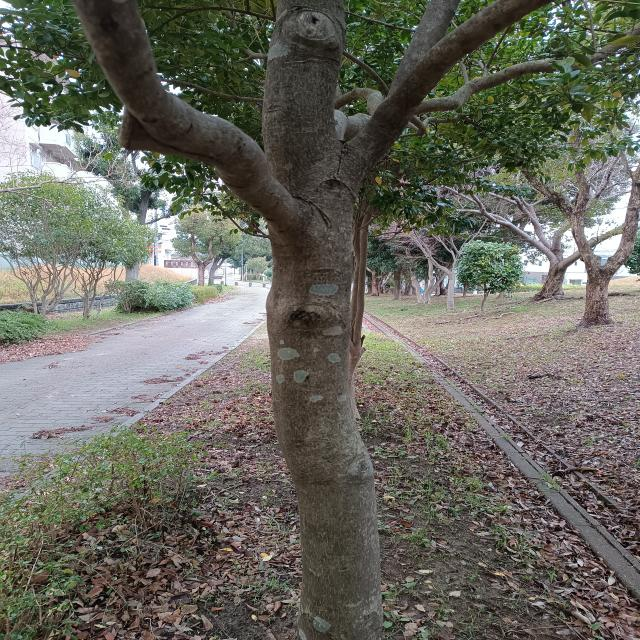Branch: (76, 0, 308, 248), (338, 0, 556, 190), (394, 0, 464, 94)
Twig: (416, 42, 626, 113)
